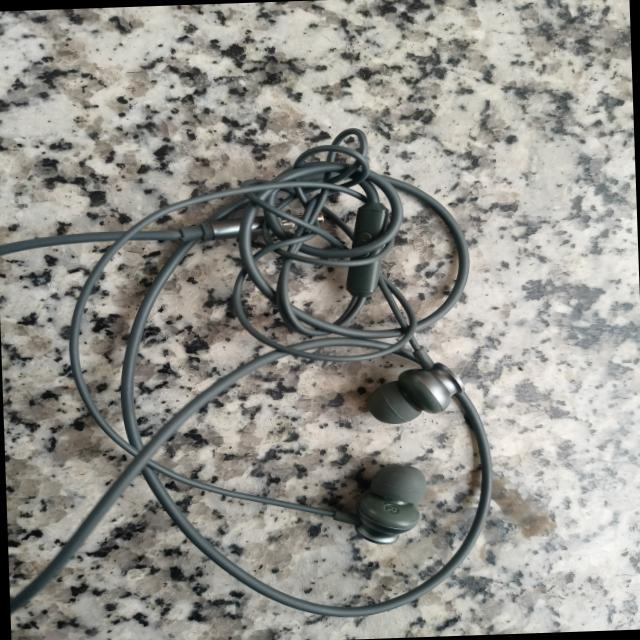plastic_box: (24, 121, 526, 640)
